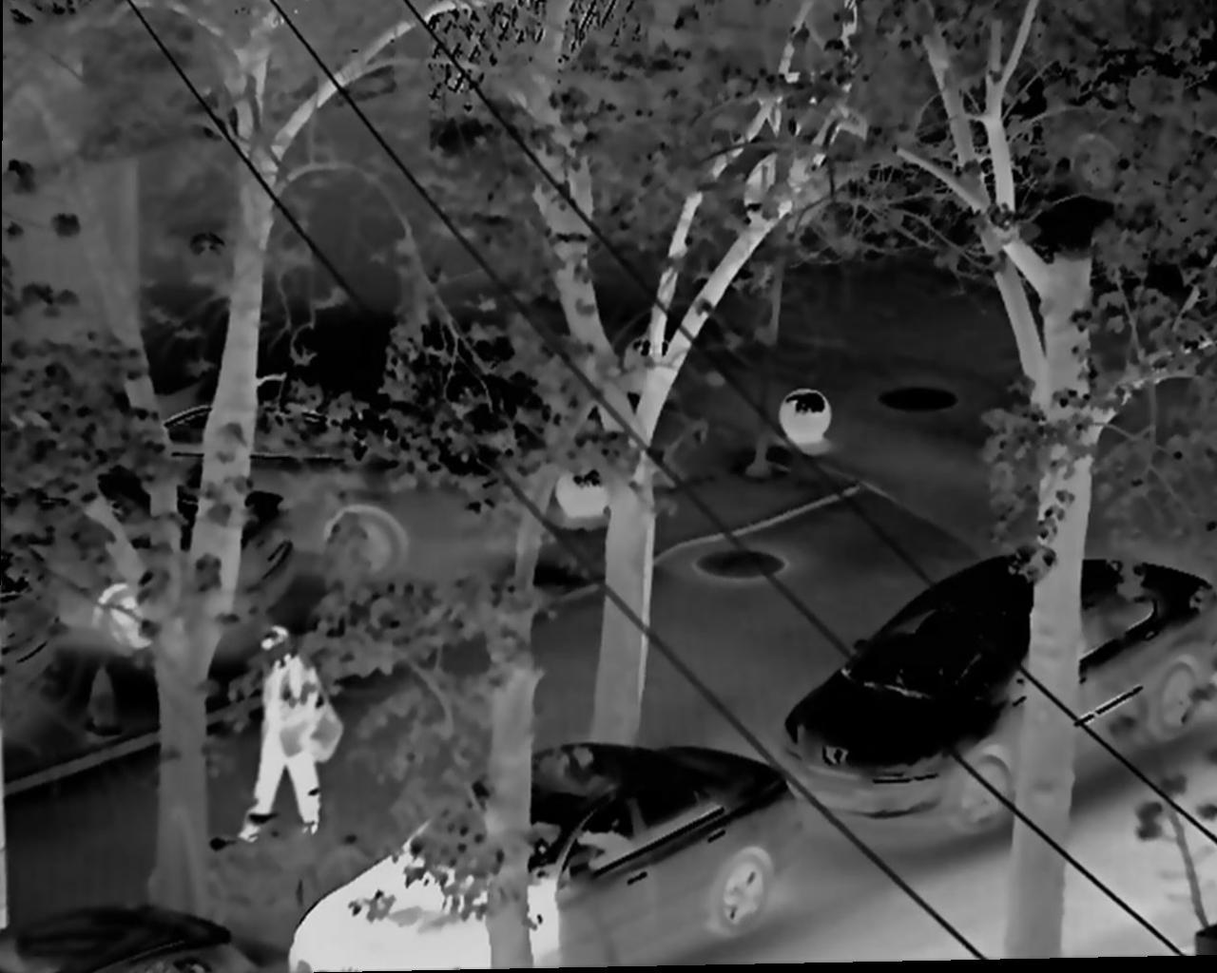person: (225, 629, 349, 841)
